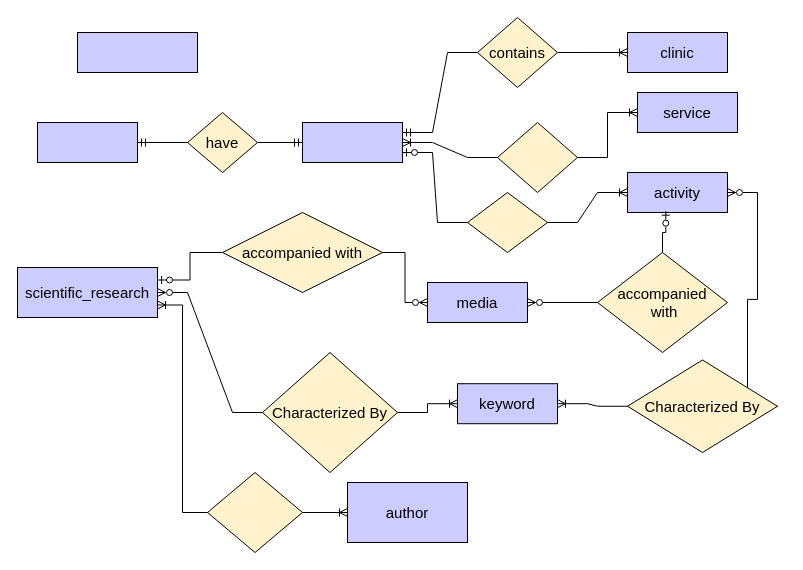
The diagram is 803 pixels wide and 570 high, and some of its shapes have lost their labels. Here are the shapes that lost their labels. From the top down, the centre of each, then its label:
At point 137,52: "admins".
At point 87,142: "contacts".
At point 352,142: "unit".
At point 537,157: "provide".
At point 507,222: "organize".
At point 254,512: "written by".
